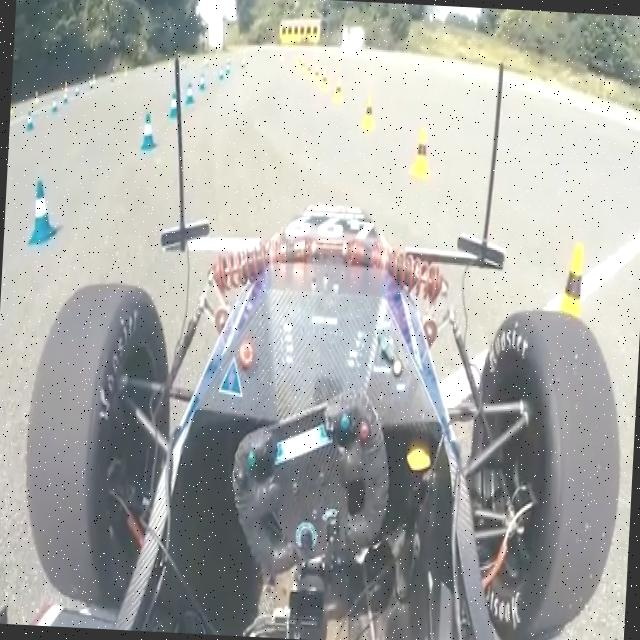blue_cone: (22, 176, 59, 247), (137, 113, 157, 154), (167, 89, 180, 119), (182, 78, 195, 108), (24, 106, 35, 134), (49, 97, 59, 117), (198, 69, 206, 91), (216, 67, 224, 85), (61, 90, 68, 110), (74, 84, 81, 98), (225, 63, 231, 78)
yellow_cone: (534, 232, 598, 384), (408, 124, 433, 180), (360, 94, 377, 134), (332, 80, 343, 108), (320, 71, 329, 93), (312, 68, 321, 90), (306, 62, 314, 84), (31, 90, 39, 108), (10, 100, 14, 119)
